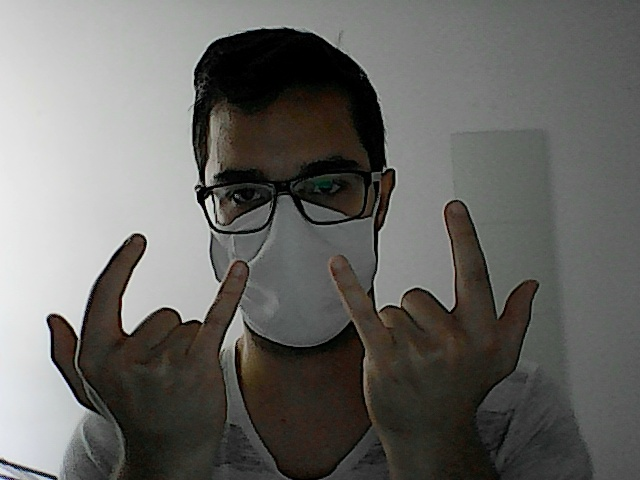shoot: (325, 194, 544, 431), (44, 229, 266, 450)
